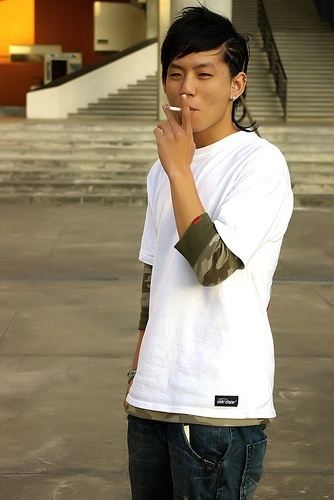head: (162, 8, 248, 132)
person: (118, 18, 295, 492)
